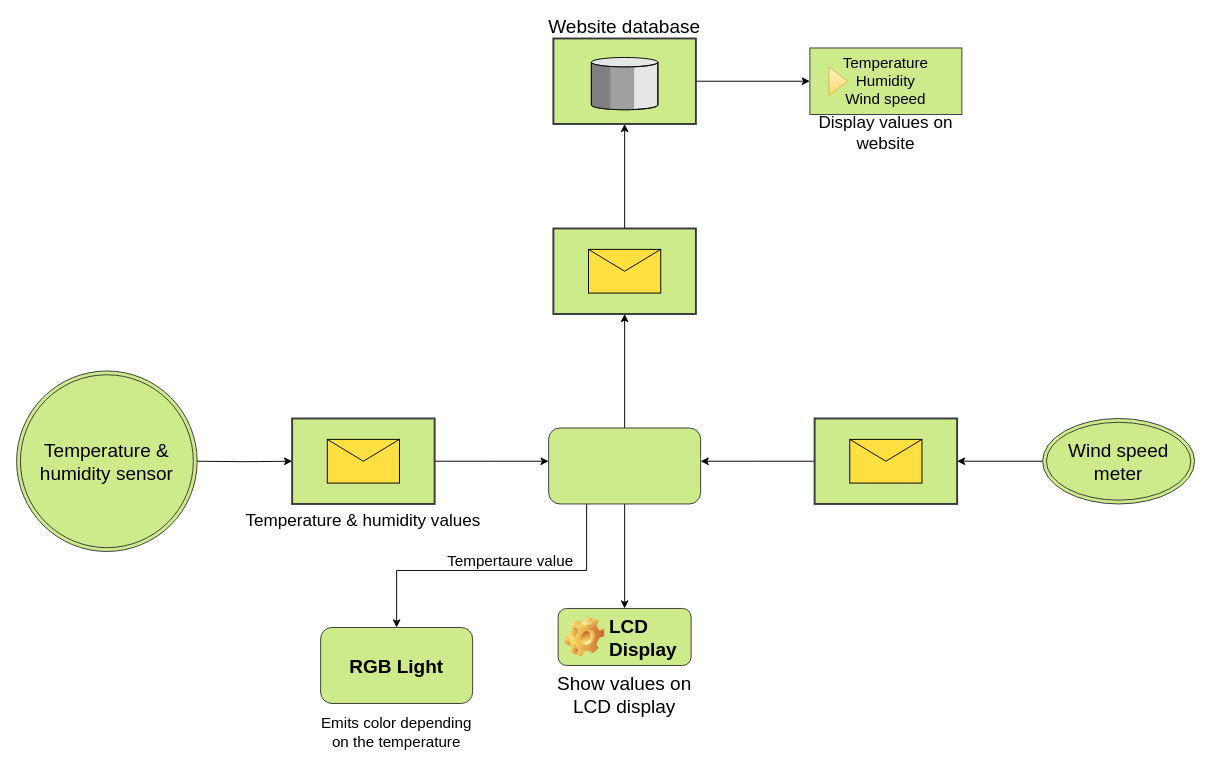
Image size: 1211x766. Some labels were removed from this diagram. The centre of each missing label's shape, as x and y in pixels:
"ESP8266 NodeMCU v1" goes at [624,465].
"Temperature, humidity & wind speed values" goes at [624,270].
"Wind speed" goes at [885,460].
